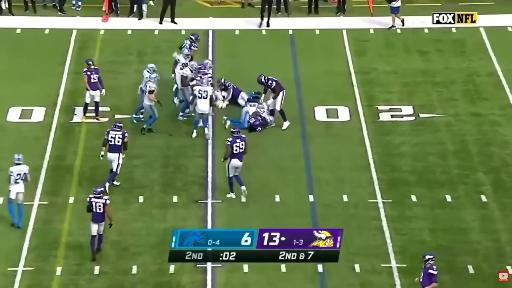Helmet: (423, 252, 434, 266), (94, 186, 105, 198), (181, 47, 191, 60), (12, 153, 23, 163), (146, 64, 158, 73), (203, 60, 213, 70), (258, 75, 268, 85), (188, 62, 199, 70), (112, 122, 123, 129), (229, 128, 240, 135), (150, 74, 159, 82), (191, 35, 200, 43), (198, 64, 207, 72), (200, 78, 209, 86), (218, 78, 226, 87), (87, 59, 94, 69), (267, 115, 274, 125), (252, 120, 260, 128)
Jersey: (87, 195, 110, 223), (9, 165, 29, 193), (193, 86, 213, 113), (227, 135, 246, 162), (106, 129, 127, 153), (221, 82, 243, 103), (83, 67, 103, 90), (419, 265, 438, 287), (264, 77, 284, 97), (176, 67, 194, 87), (246, 106, 269, 120), (139, 70, 151, 94), (144, 82, 157, 104), (175, 55, 189, 75), (248, 116, 266, 131), (141, 70, 151, 89), (181, 40, 198, 50)
Player: (87, 186, 113, 261), (100, 122, 127, 192), (258, 75, 289, 130), (223, 129, 247, 198), (8, 154, 30, 228), (223, 103, 275, 132), (132, 64, 157, 122), (83, 59, 105, 120), (192, 77, 213, 138), (218, 78, 260, 108), (176, 62, 198, 119), (141, 82, 162, 134), (173, 48, 191, 105), (223, 103, 259, 129), (416, 253, 437, 287), (179, 33, 199, 60), (248, 115, 275, 132), (198, 60, 213, 86)
